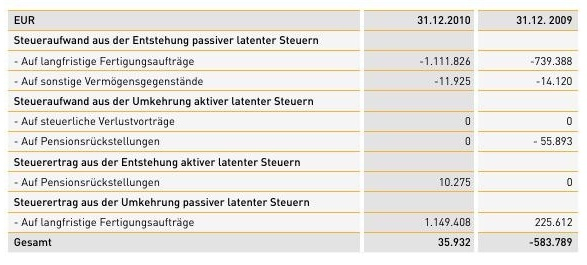table: (0, 0, 587, 265)
